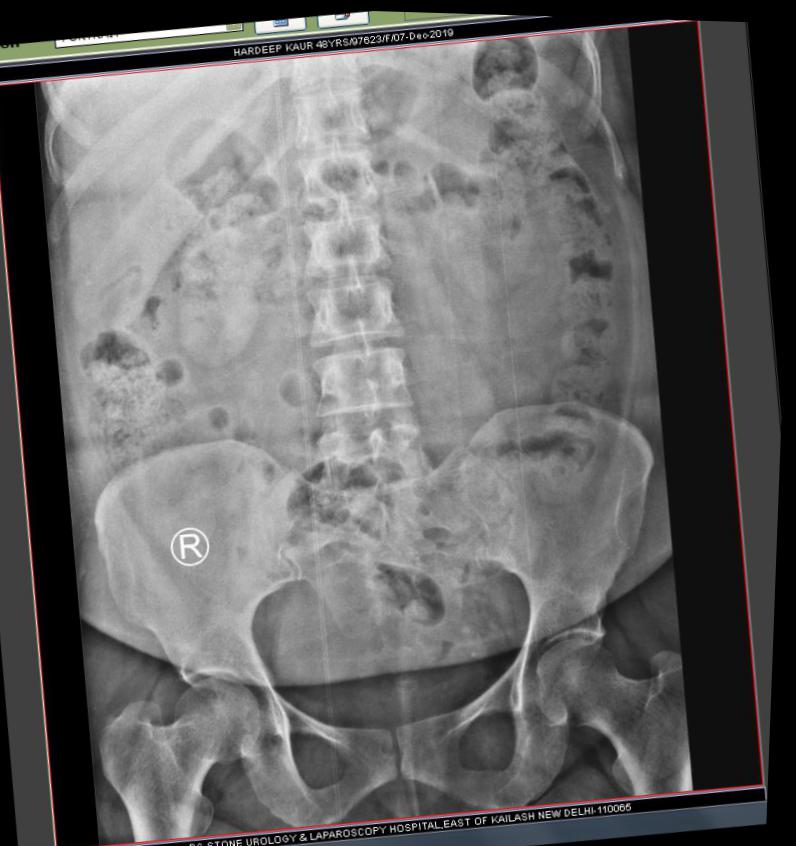vertebrae: (291, 137, 384, 213)
